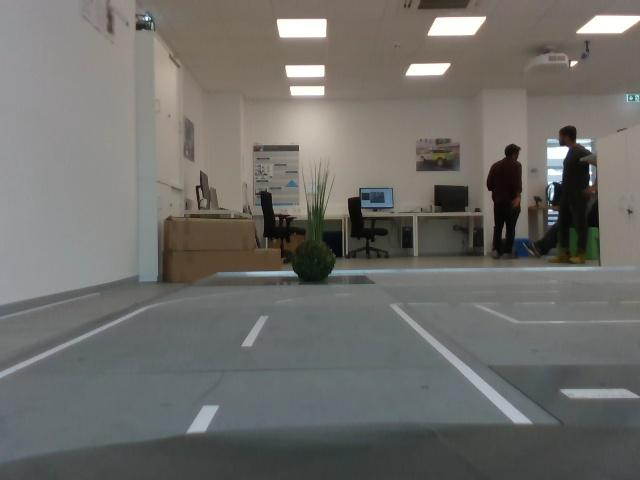potted plant: (300, 158, 335, 241), (290, 242, 339, 286)
